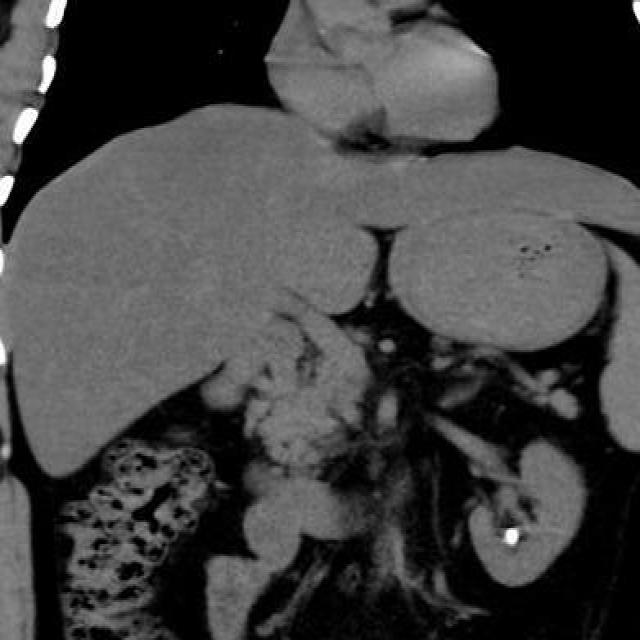Tas_Var: (503, 525, 522, 549)
